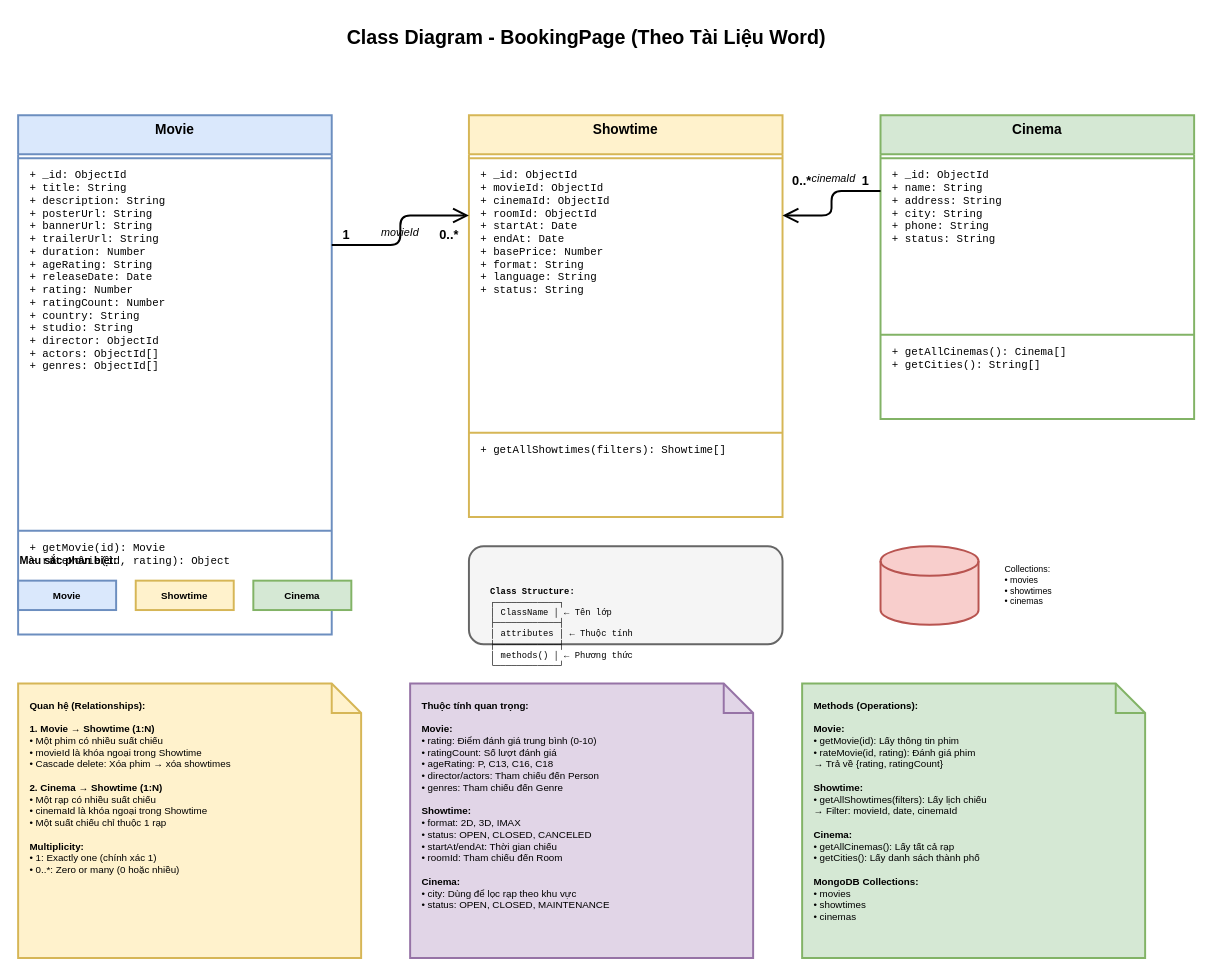
Image size: 1211x975. Some labels were removed from this diagram. The shapes that lost their labels are listed below. From the top down, each one's box as (x1, y1, x2, y2) in pixels, then its label:
(467, 545, 783, 645): Chú thích UML:
(879, 545, 979, 625): MongoDB
